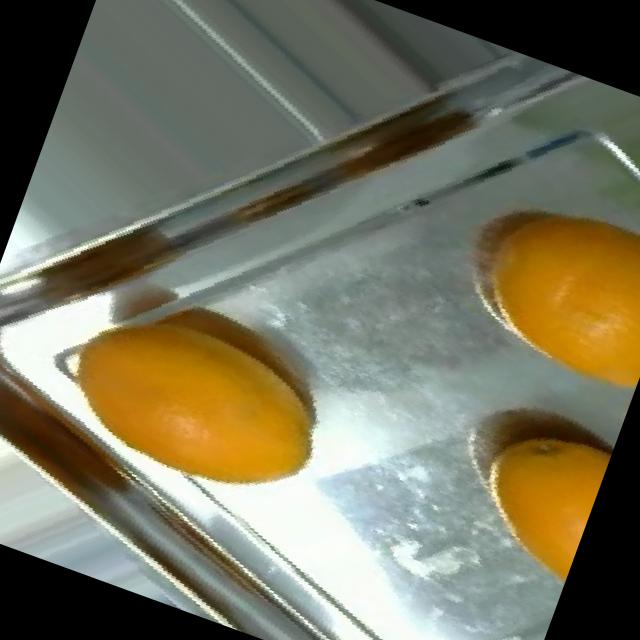Fruit: (412, 362, 626, 593)
